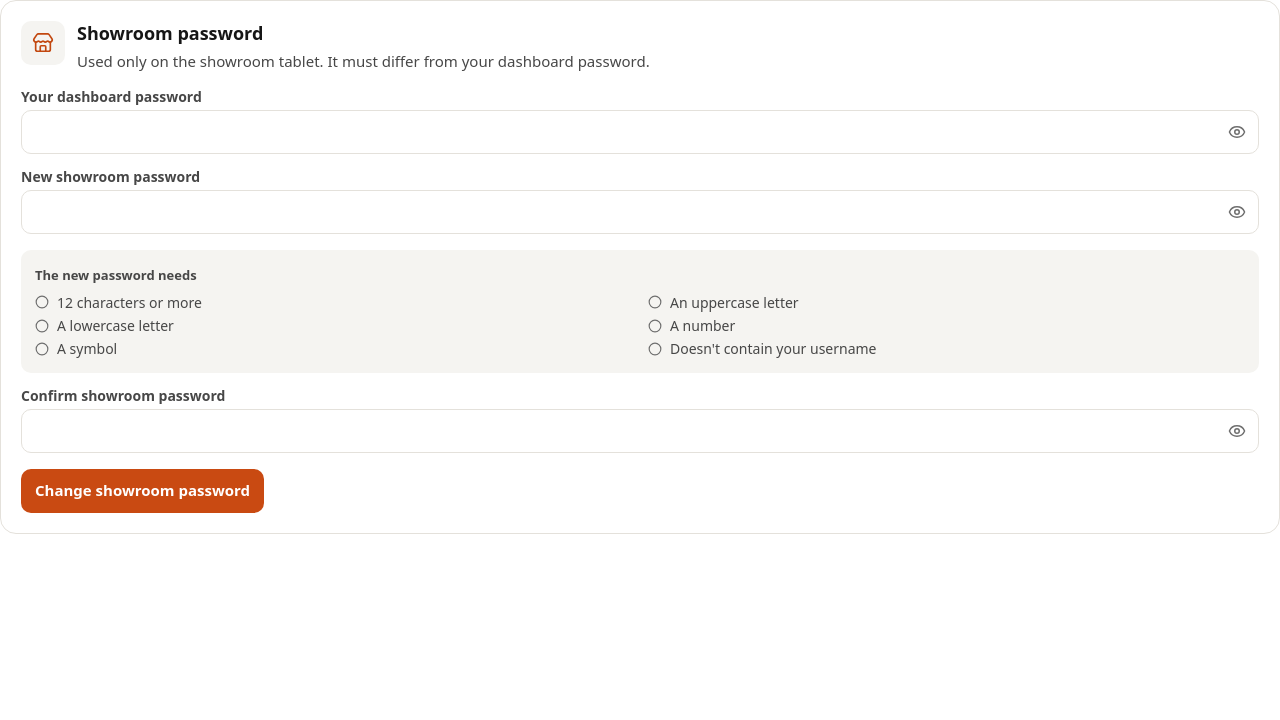
it: showroom password › maps SHOWROOM_SAME_AS_DASHBOARD to the new password and confirms a change
This screenshot has width=1280, height=720.
Type "Manager#Wolf2026!" into the password field labelled "Your dashboard password" at (640, 132), box x1=21 y1=110 x2=1259 y2=154
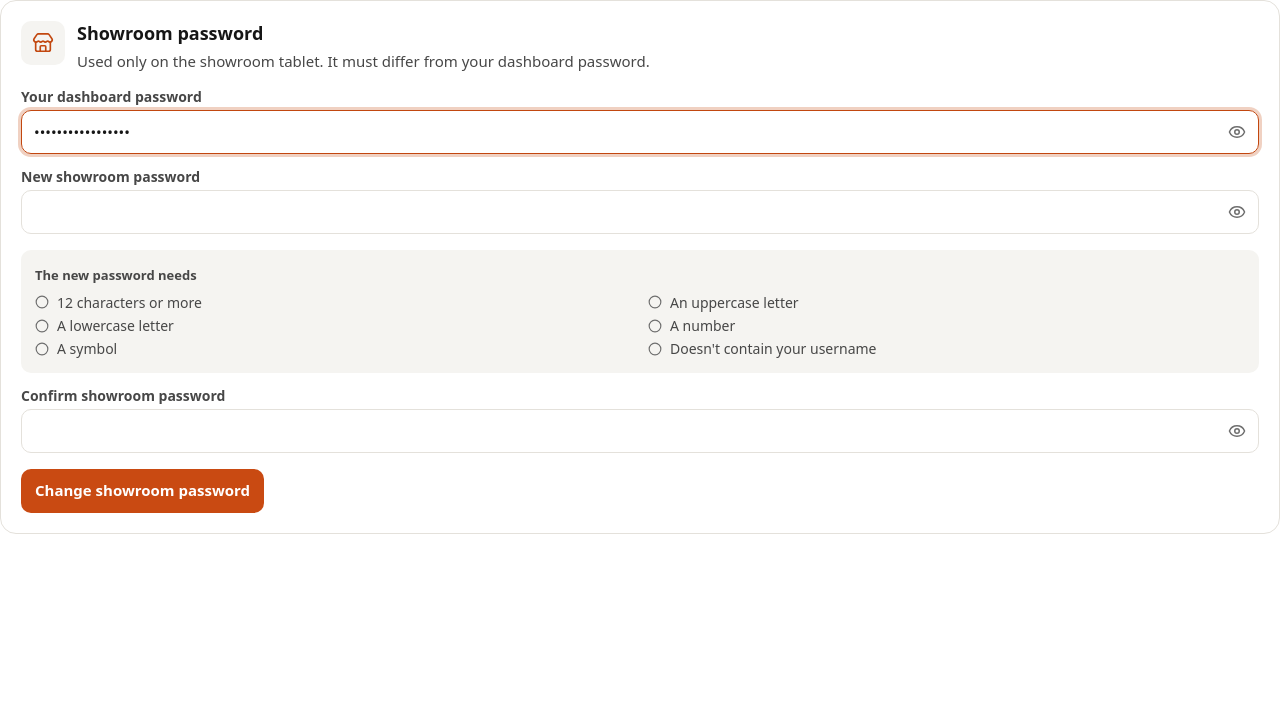
Type "Night#Falcon2026" into the password field labelled "New showroom password" at (640, 212), box x1=21 y1=190 x2=1259 y2=234
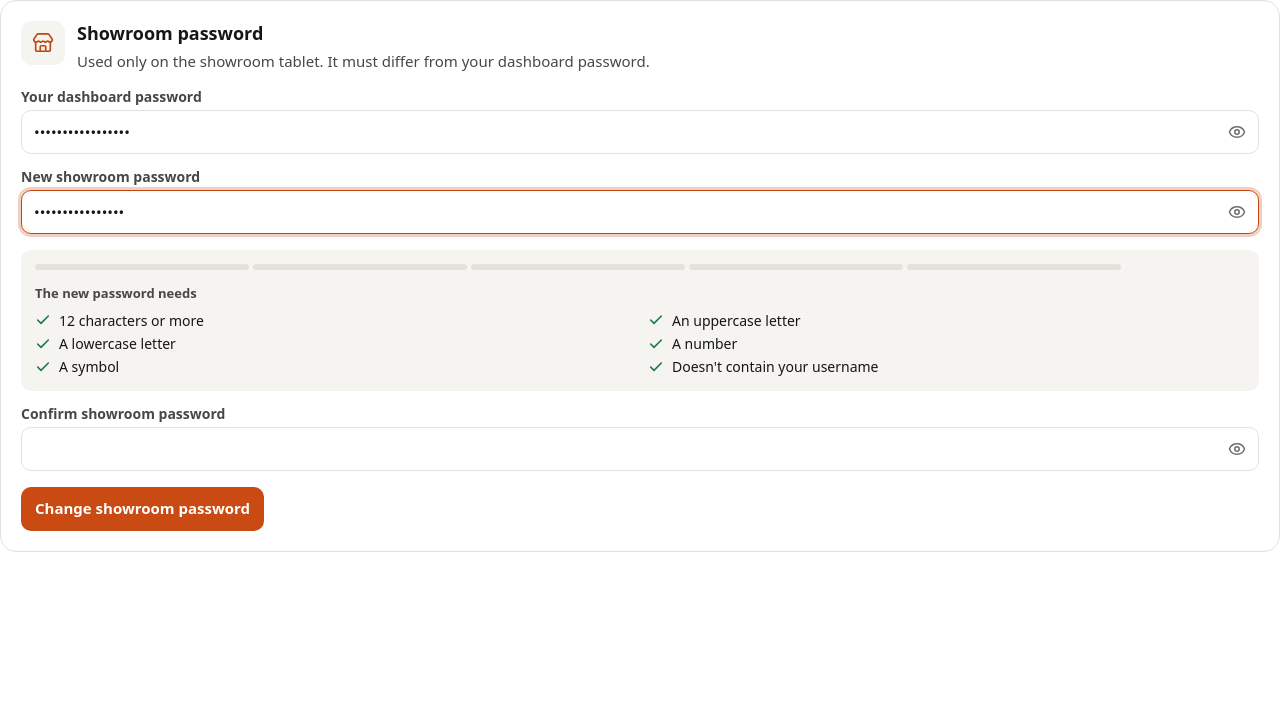
Type "Night#Falcon2026" into the password field labelled "Confirm showroom password" at (640, 448), box x1=21 y1=426 x2=1259 y2=470
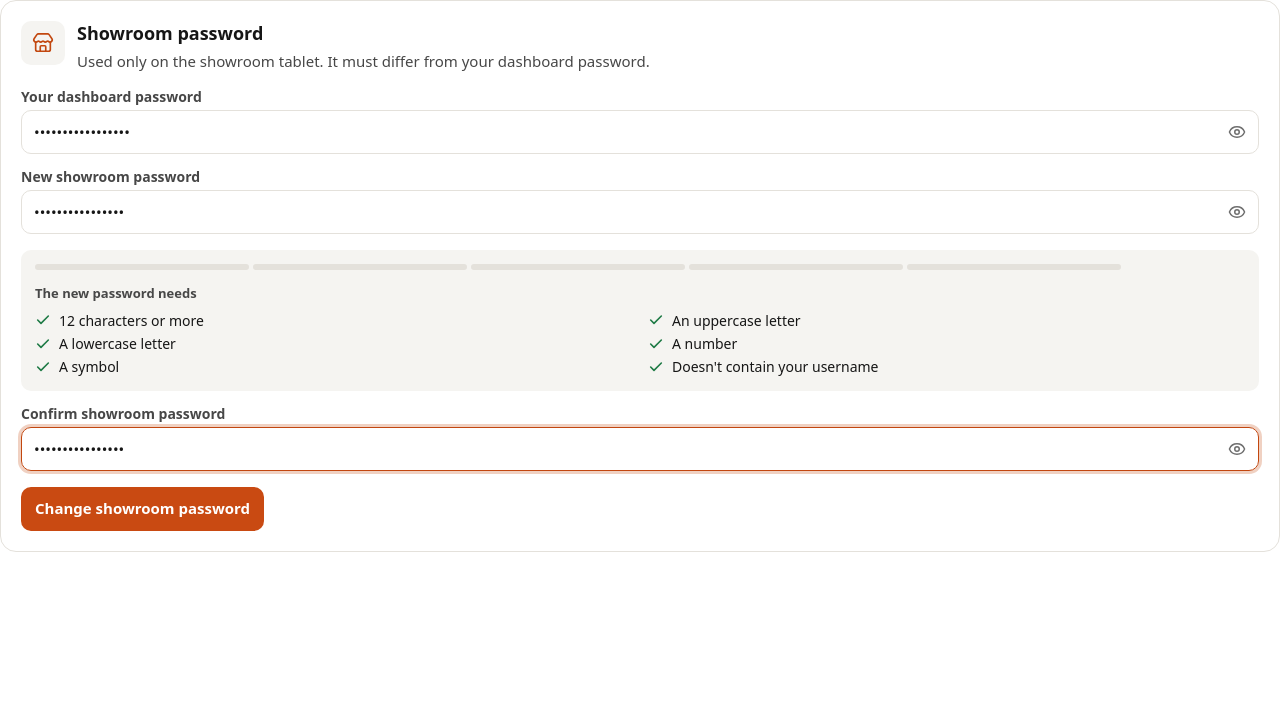
Click the button "Change showroom password" at (142, 508), box x1=21 y1=486 x2=264 y2=530
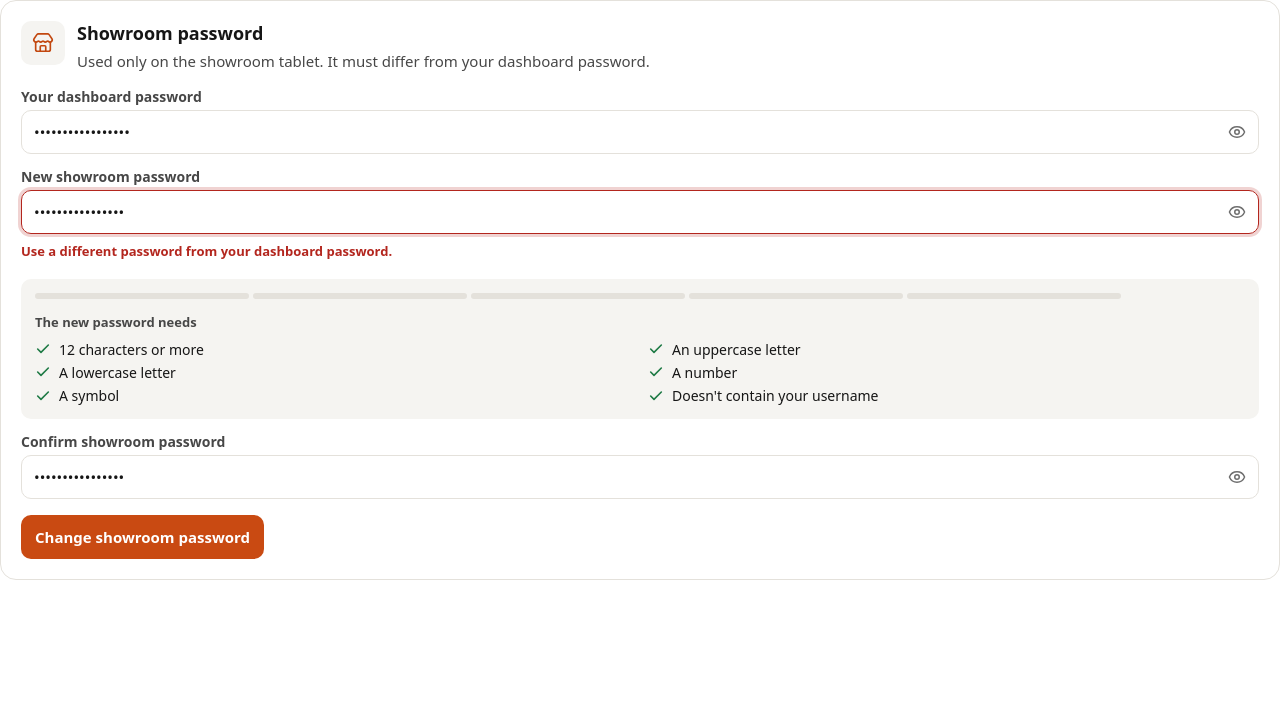
Check: the text "Use a different password from your dashboard password." is shown, box x1=21 y1=242 x2=392 y2=260
Click the button "Change showroom password" at (142, 537), box x1=21 y1=515 x2=264 y2=559
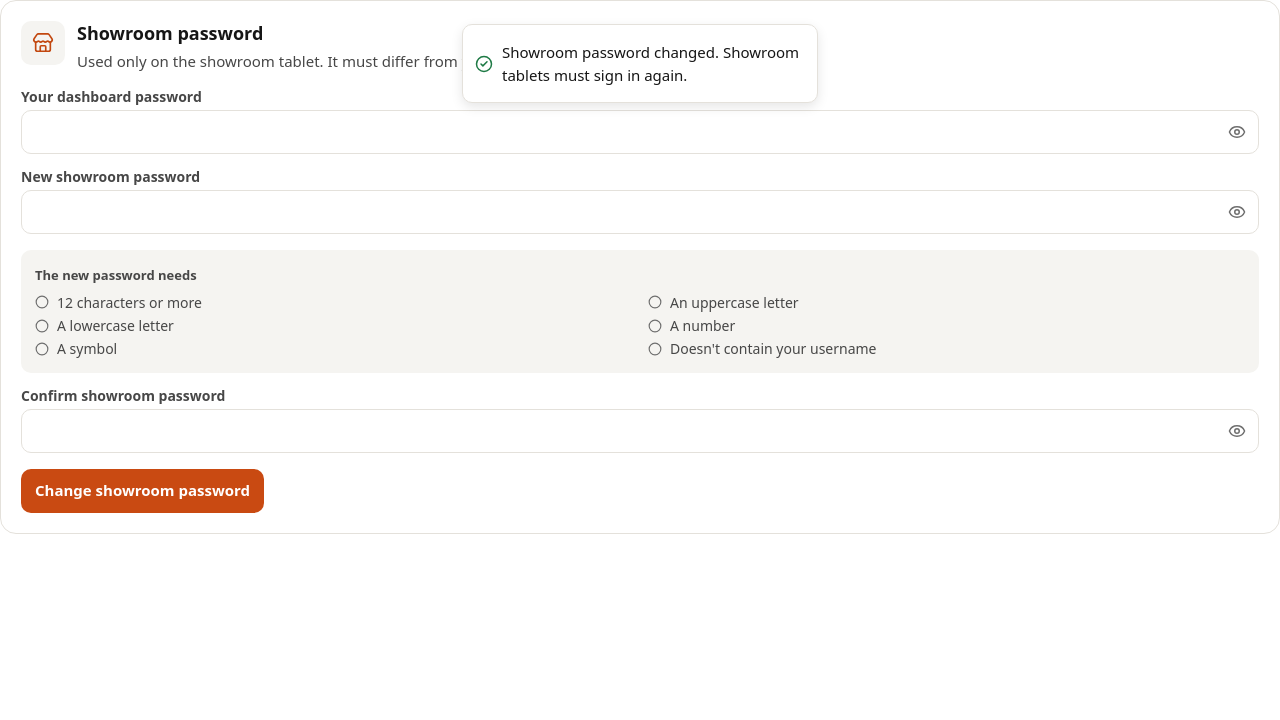
Check: the text "Showroom password changed. Showroom tablets must sign in again." is shown, box x1=502 y1=41 x2=801 y2=86
Check: the password field labelled "New showroom password" is empty, box x1=21 y1=190 x2=1259 y2=234
